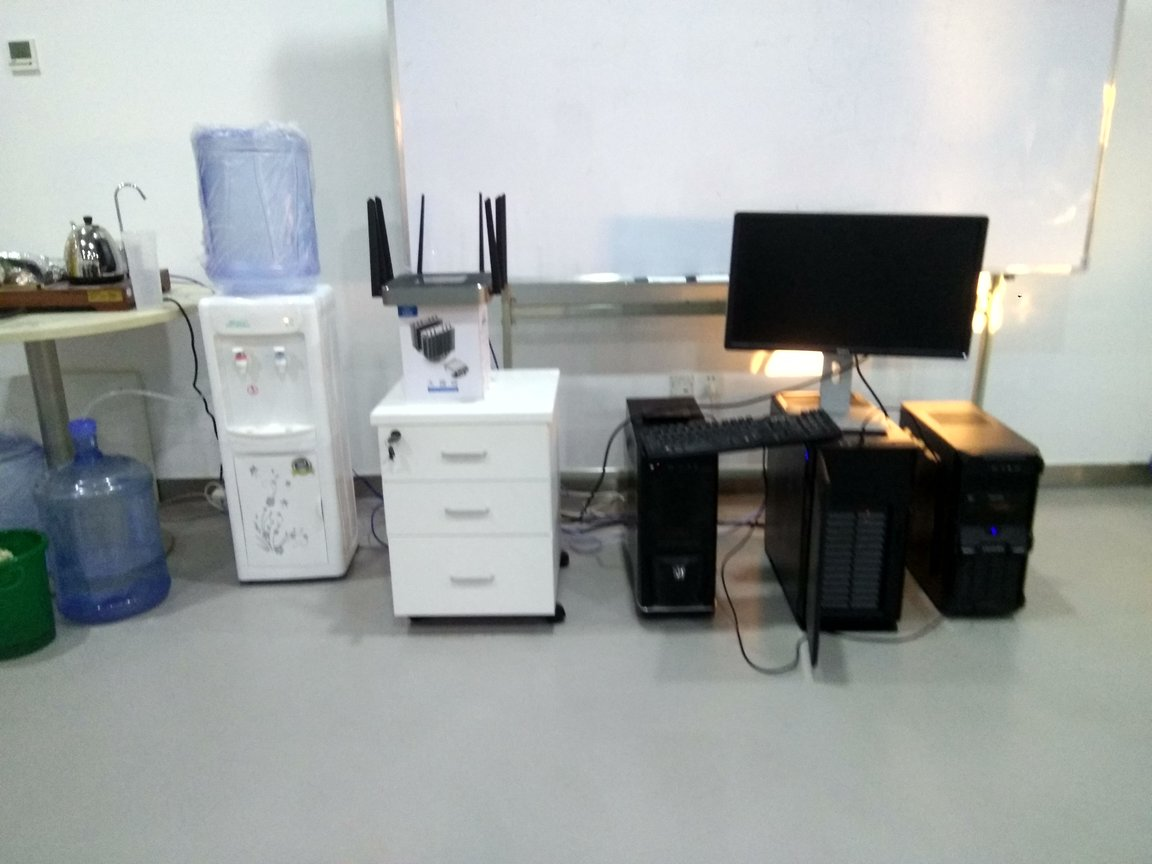computer: (767, 389, 920, 678), (903, 397, 1041, 627), (626, 395, 723, 630)
drawer chest: (372, 370, 573, 646)
monitor: (724, 200, 989, 440)
scuttlebutt: (37, 418, 176, 628), (188, 119, 324, 297), (3, 429, 61, 605)
water dispenser: (196, 286, 361, 586)
